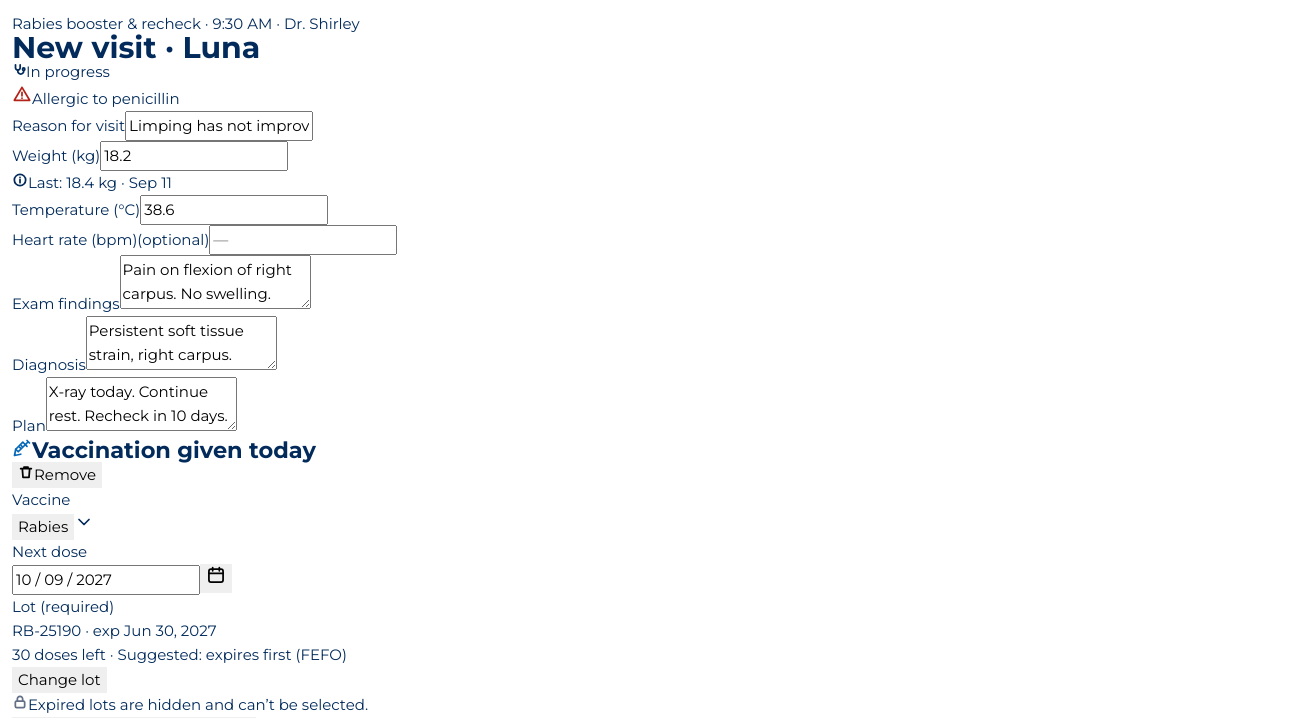
VisitRecord vaccination › changes the vaccine and the date of the next dose
Click the dropdown named "Vaccine".
click(43, 527)  # box [12, 514, 74, 540]
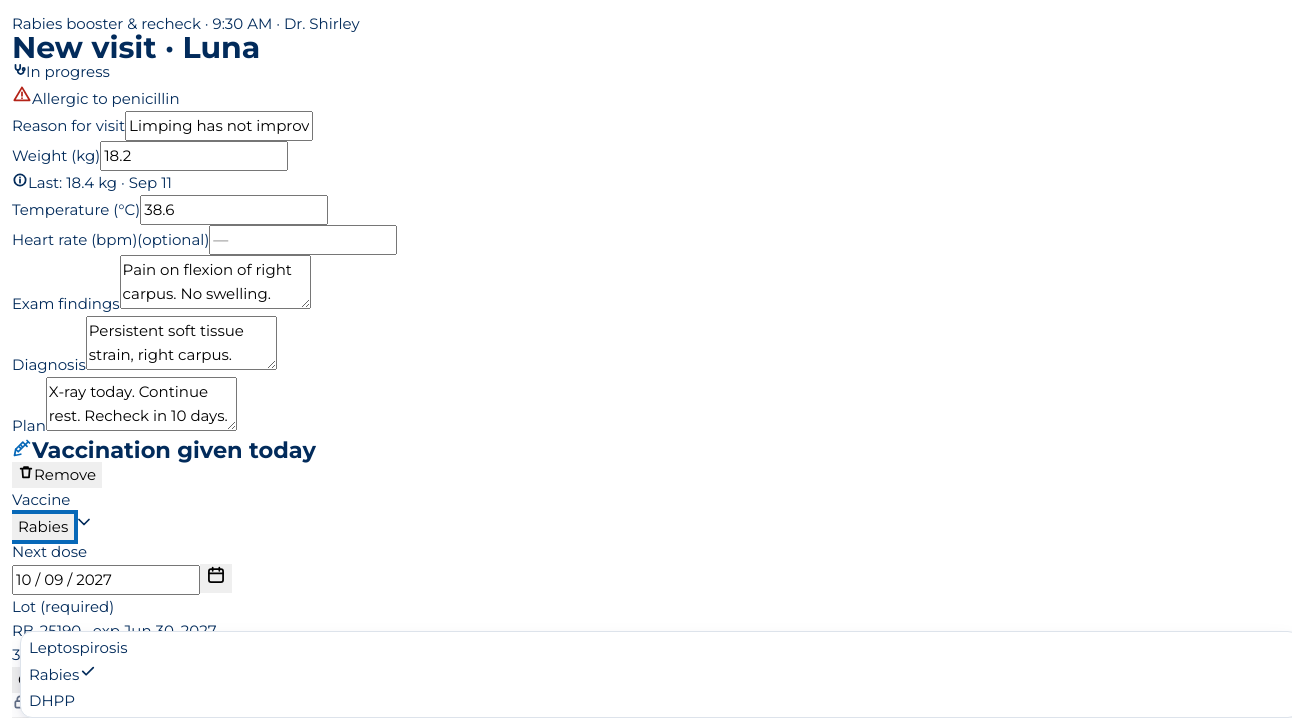
Click the option "Rabies".
click(63, 673)  # box [29, 662, 97, 684]
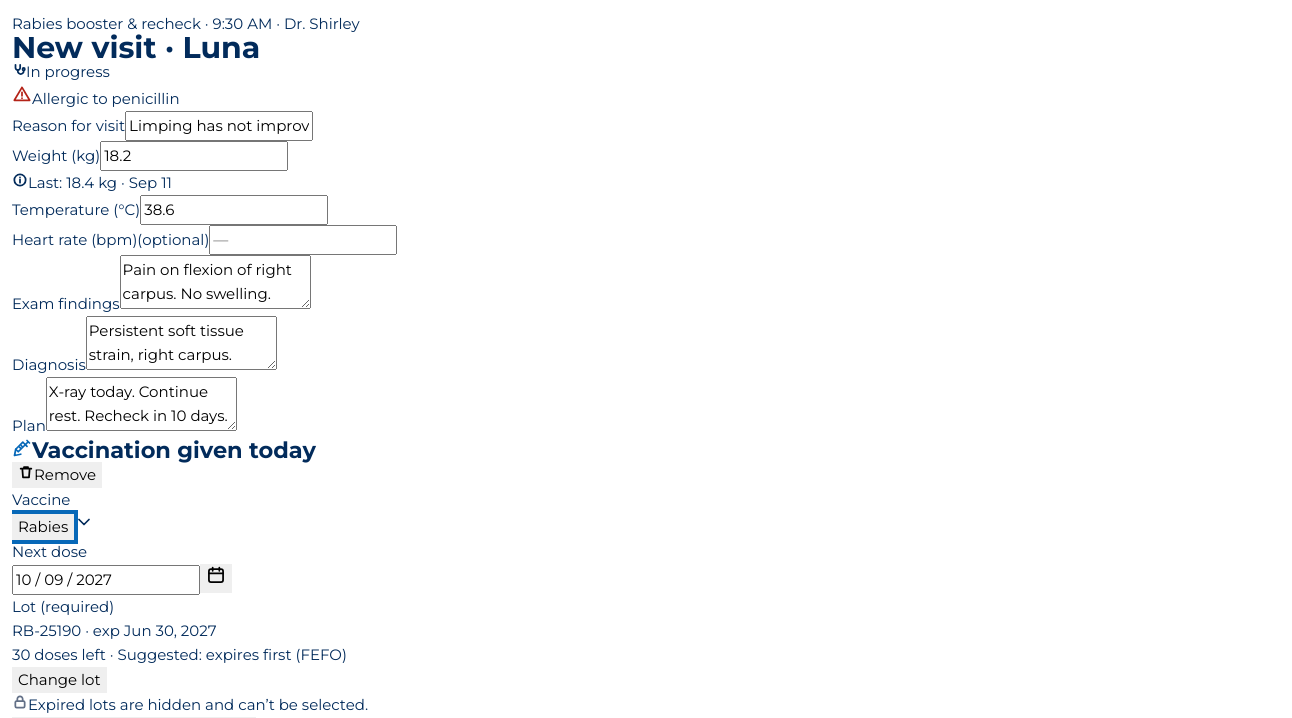
Expected: the dropdown named "Vaccine" reads "Rabies", [12, 514, 74, 540]
Replace the text in the field labelled "Next dose" with "11152027" at (106, 580), box [12, 565, 200, 595]
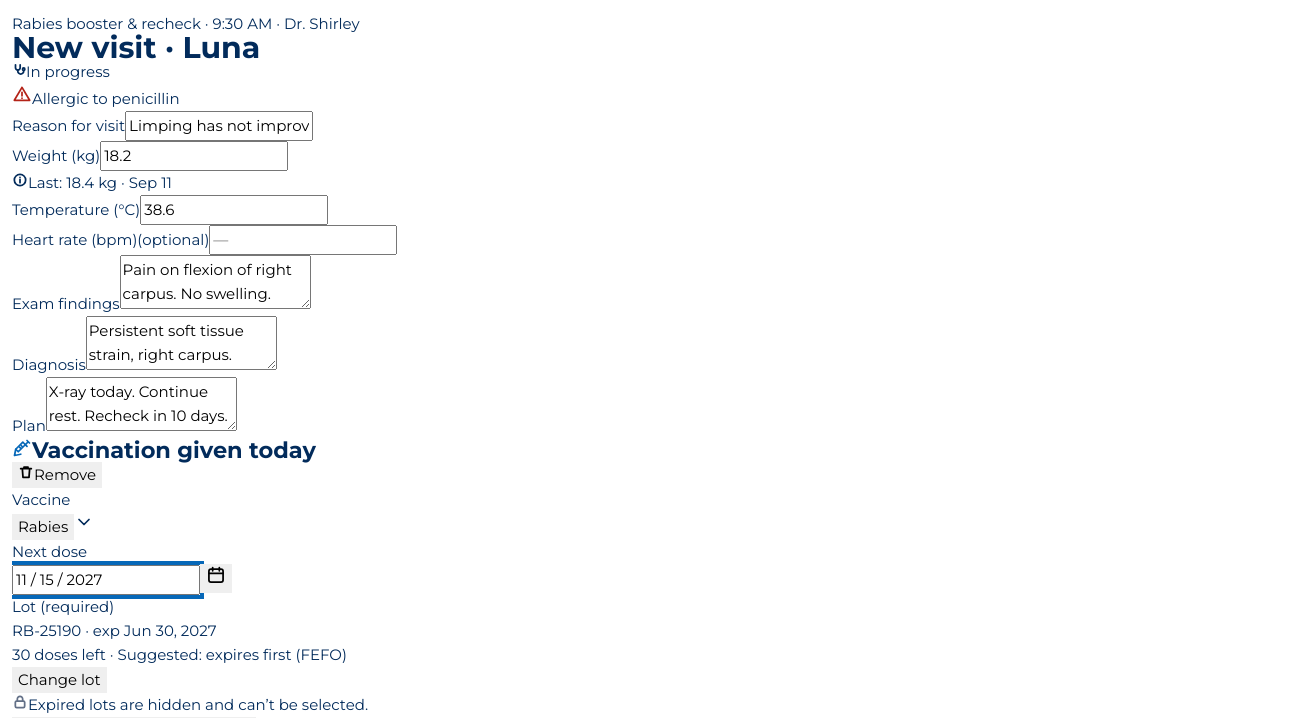
Expected: the field labelled "Next dose" holds "11 / 15 / 2027", [12, 565, 200, 595]
